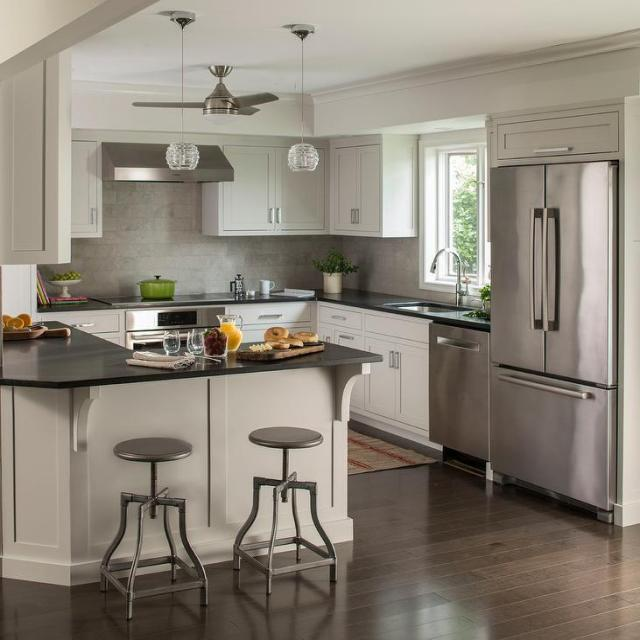dishwasher: (425, 317, 495, 482)
